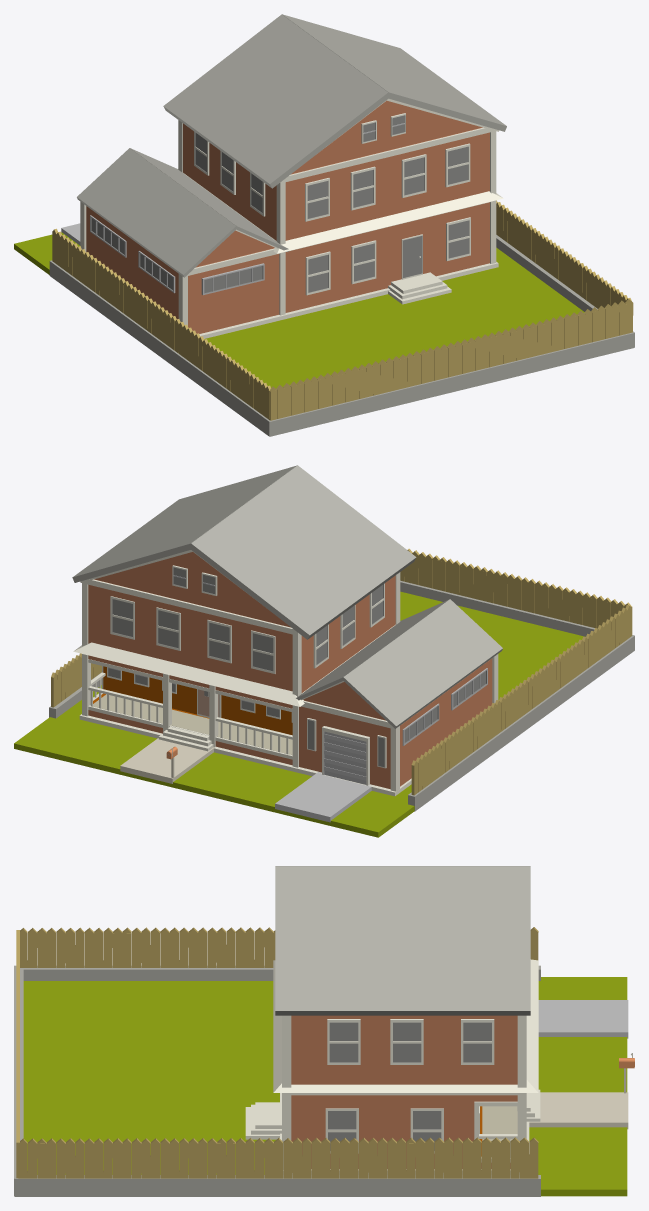
Rendered from house5.fbx.
The picture shows the model from 3 angles, top to bottom: view 1: azimuth 30°, elevation 25°; view 2: azimuth 150°, elevation 25°; view 3: azimuth 270°, elevation 25°; orthographic projection. The views are drawn at different scales.
Parts seen in each view (by area): view 1: Cube_27; view 2: Cube_27; view 3: Cube_27.
Boxes of the visible parts, <box> form: Cube_27: <box>14,14,634,436</box>; Cube_27: <box>14,465,634,837</box>; Cube_27: <box>14,866,634,1196</box>.
Bounding box in the file's own units: 2228 × 1219 × 2738.
